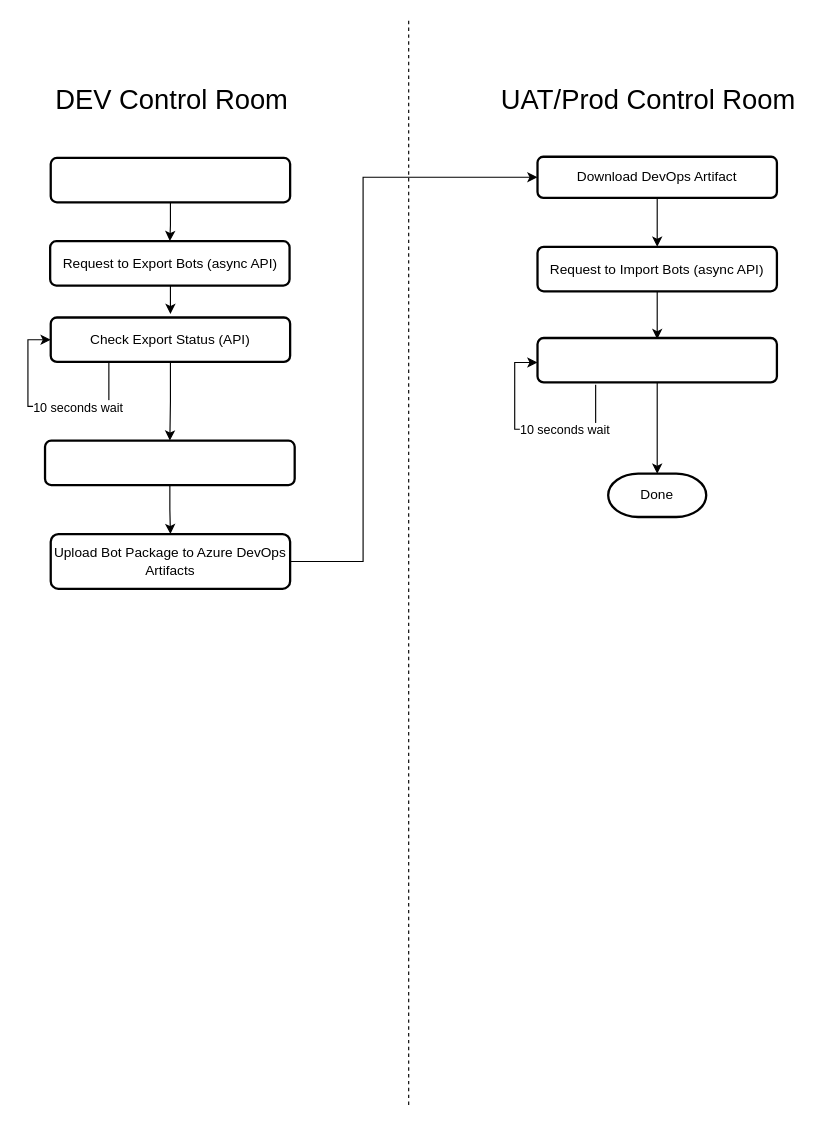
The diagram is 828 pixels wide and 1126 high, and some of its shapes have lost their labels. Each missing label, with the box of its shape:
Check Import Status (API): (536, 336, 777, 383)
Download Exported Bot Package (API): (43, 439, 295, 486)
Retrieve Bots Information (API): (49, 156, 291, 203)
